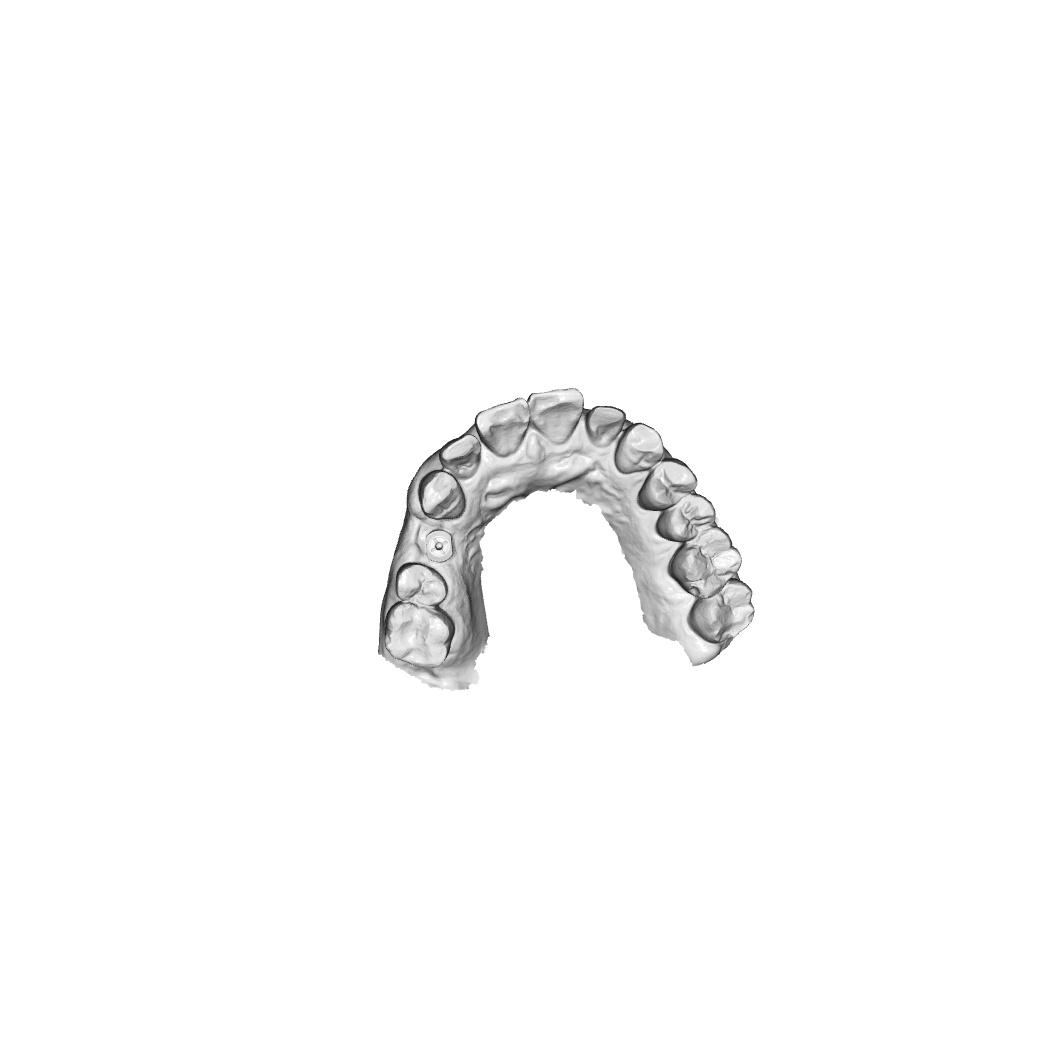canine: (613, 422, 666, 475), (417, 469, 467, 521)
implant_plus: (424, 529, 454, 563)
incisor: (528, 387, 587, 445), (474, 397, 530, 458), (438, 433, 484, 480), (587, 405, 628, 448)
molar: (667, 524, 745, 600), (382, 601, 456, 670), (686, 576, 756, 645)
premolar: (636, 457, 699, 512), (655, 492, 717, 544), (394, 562, 448, 609)
